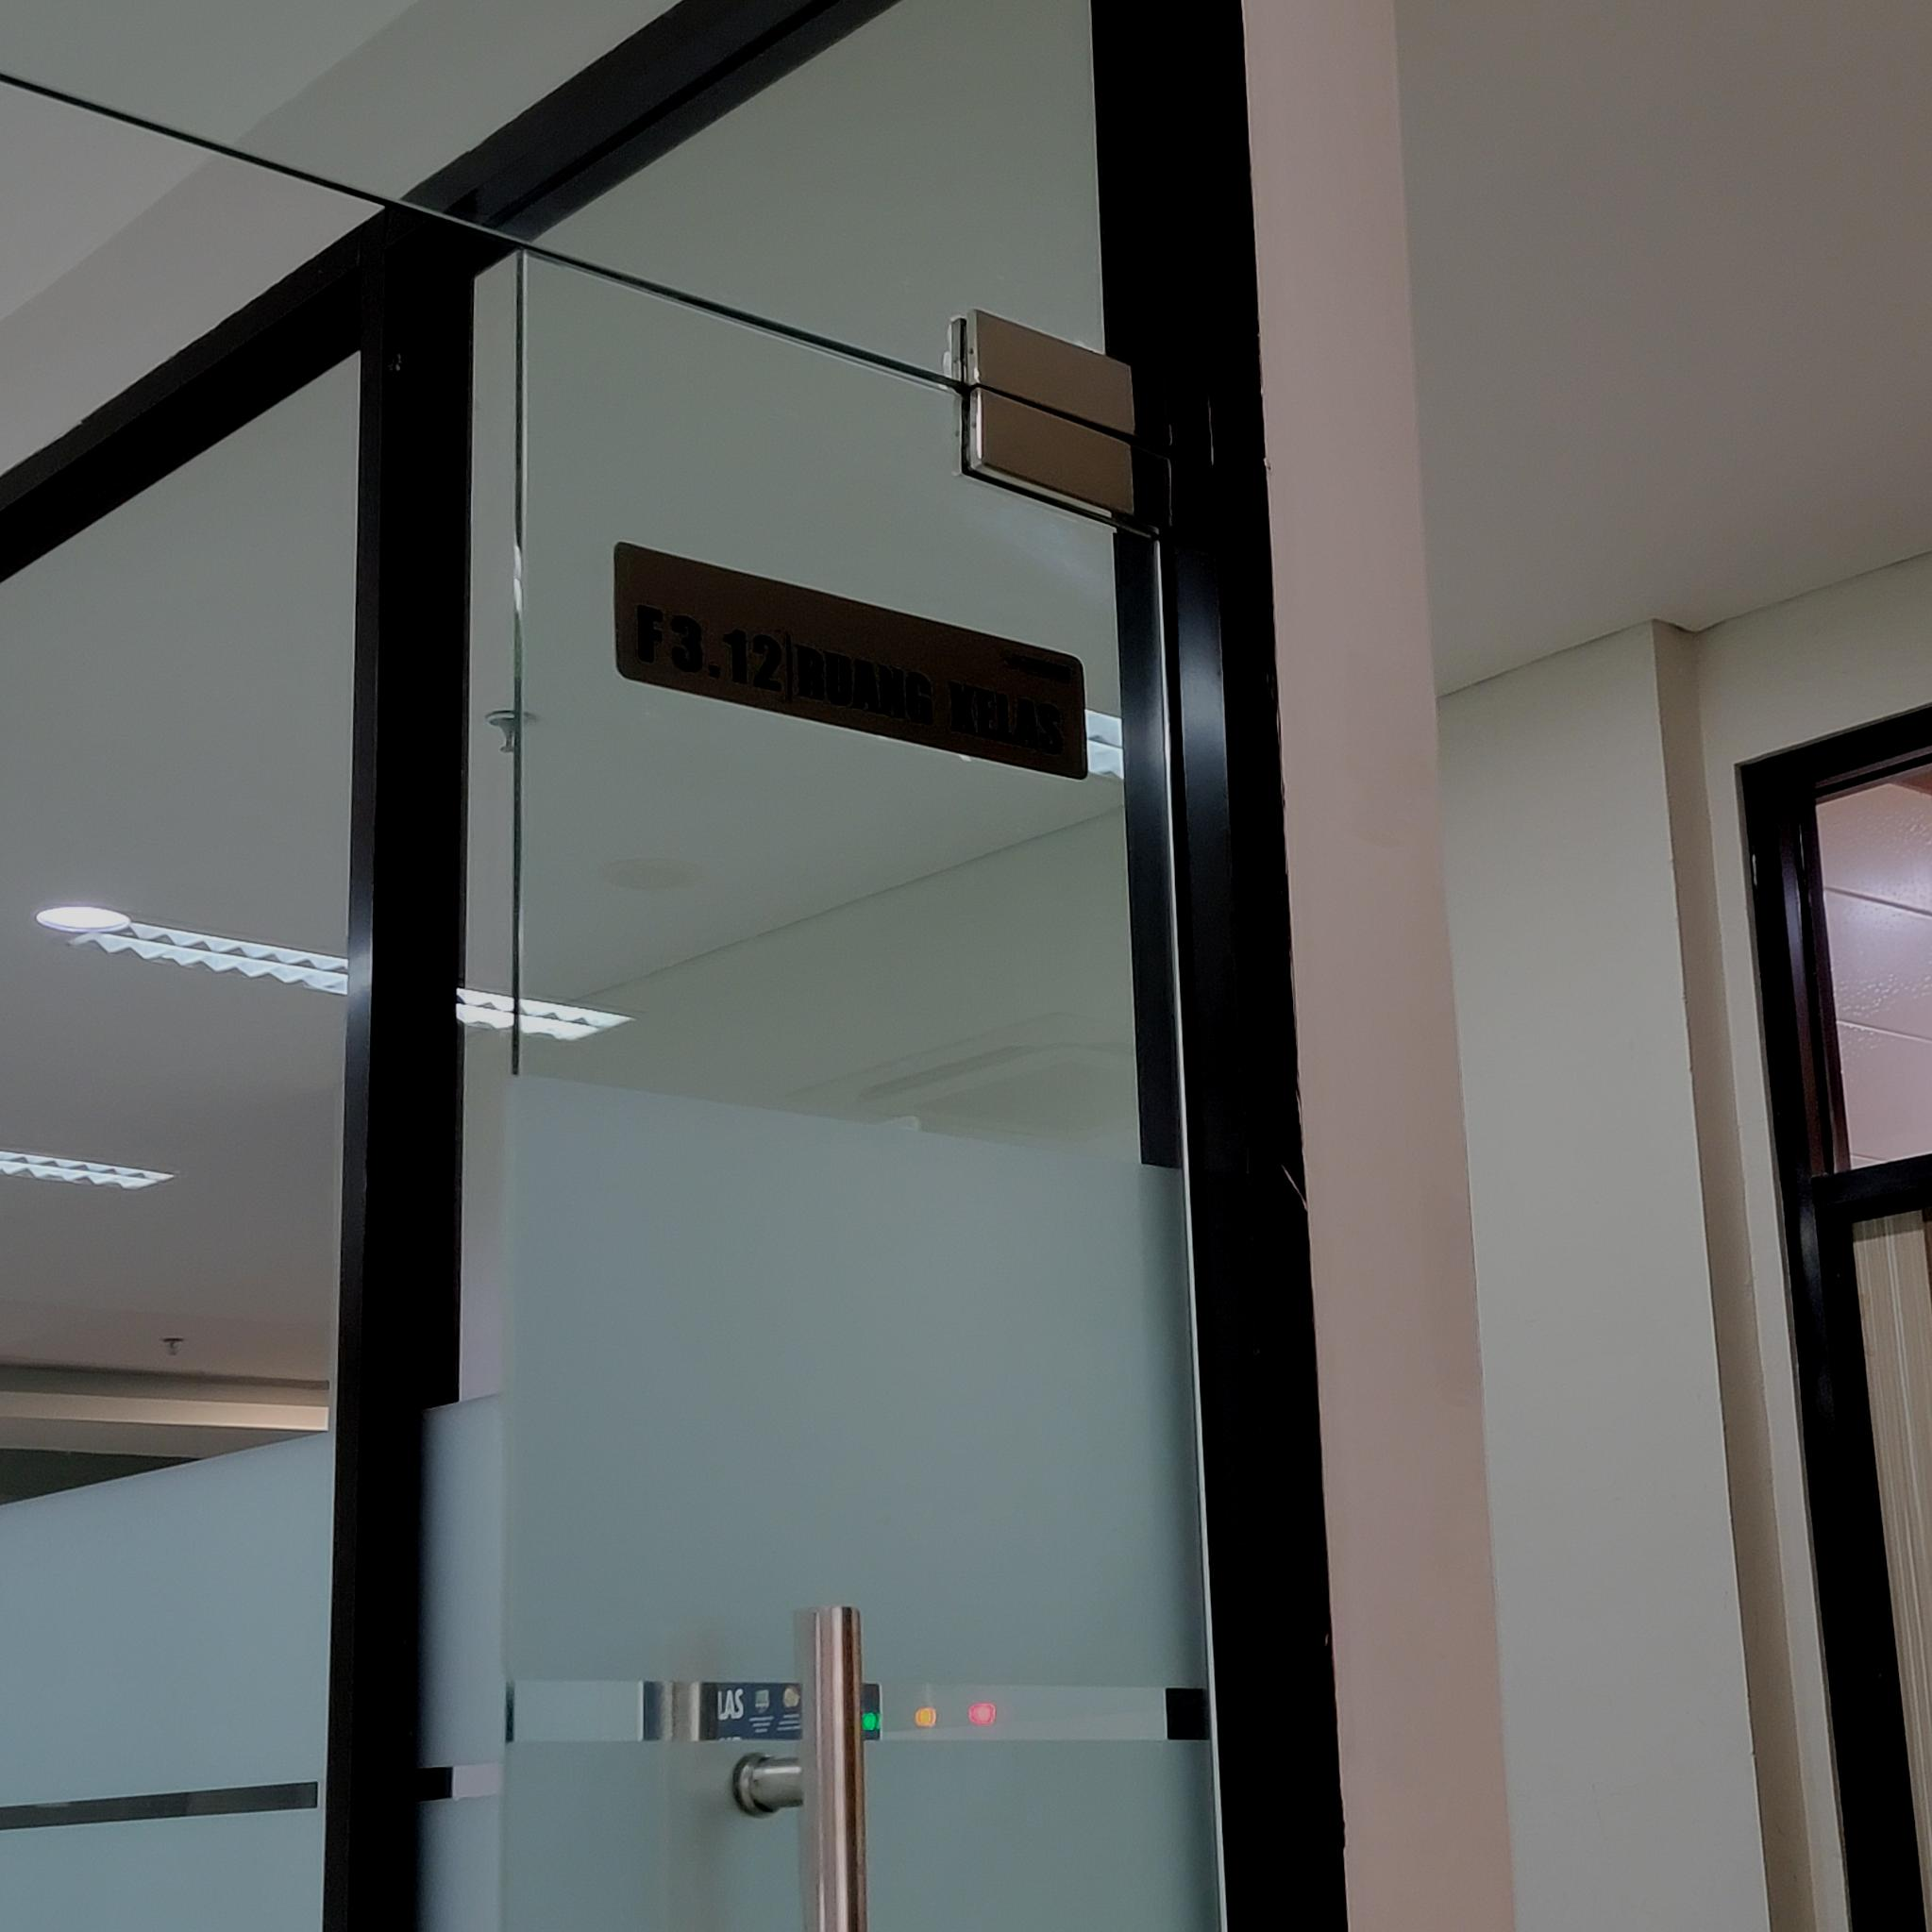plate: (612, 536, 1086, 784)
